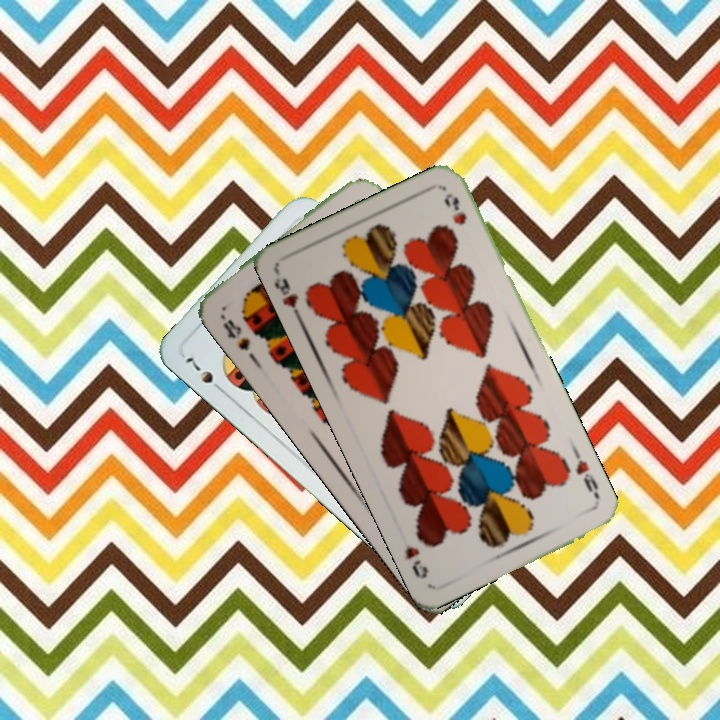H9: (270, 268, 304, 324), (570, 447, 602, 502)
S7: (181, 353, 228, 396)
S8: (216, 310, 253, 353)
